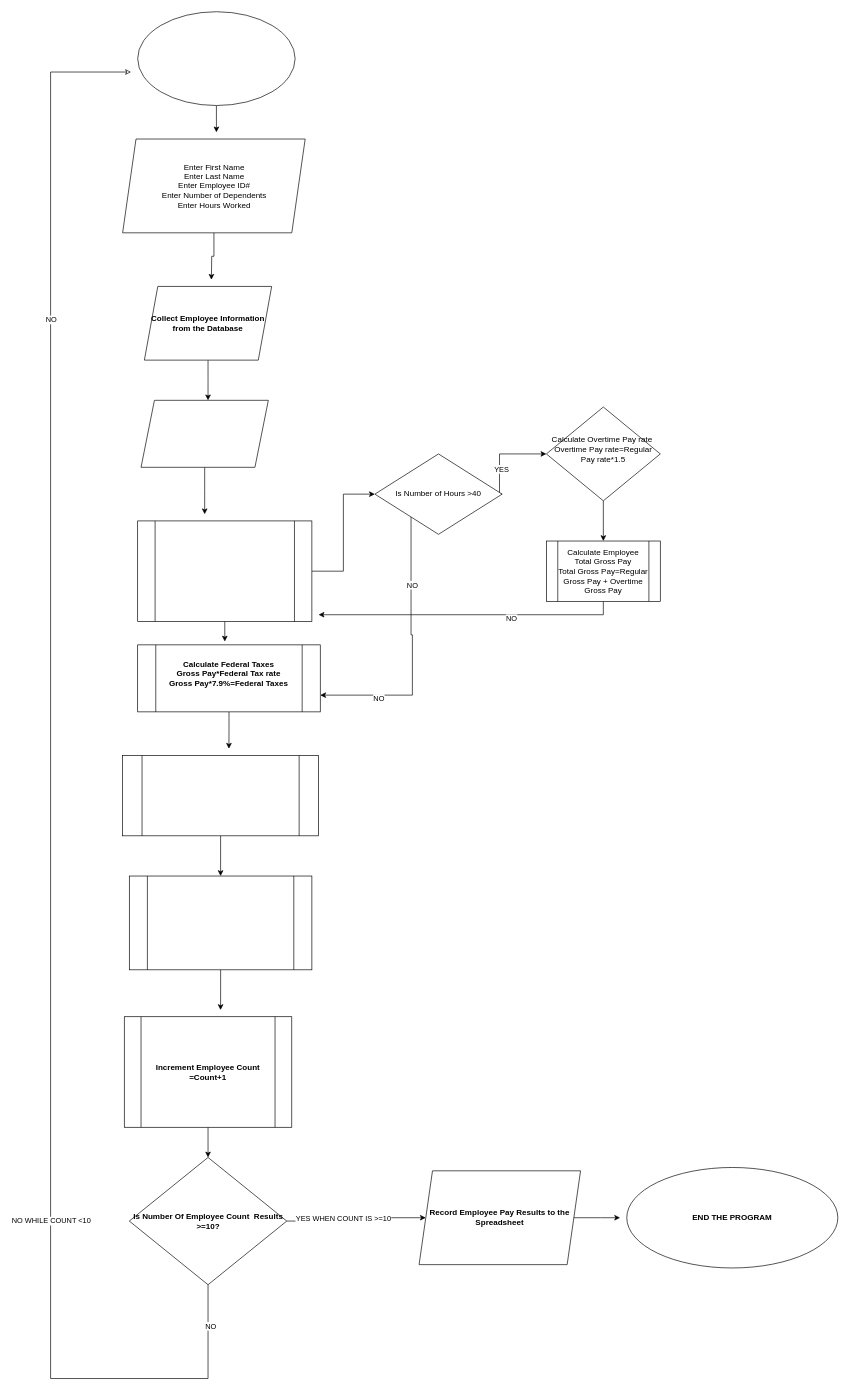
Image size: 850x1396. Some labels were removed from this diagram. Each missing label, with the centre of its shape:
"Calculate Gross Pay Gross Pay=Hours worked*Pay rate" goes at point (224, 570).
"Calculate State Taxes Gross Pay*State Tax rate Gross Pay*5.6%" goes at point (220, 795).
"Display Employee Pay Results" goes at point (220, 922).
"Retrieve Employee Pay Rate from Employee ID" goes at point (204, 433).
"START Program" goes at point (216, 58).
